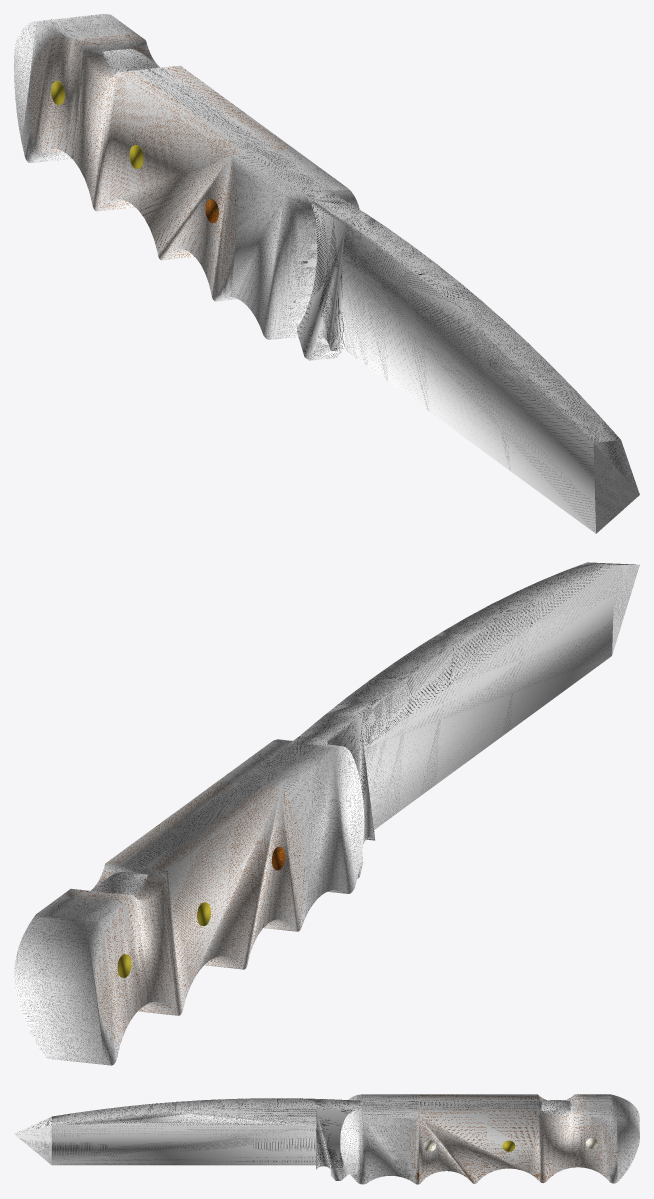
File: model_scale.obj
The picture shows the model from 3 angles, top to bottom: view 1: azimuth 30°, elevation 25°; view 2: azimuth 150°, elevation 25°; view 3: azimuth 270°, elevation 25°; orthographic projection. The views are drawn at different scales.
Visible parts, largest first — view 1: mesh1_mesh1-geometry; view 2: mesh1_mesh1-geometry; view 3: mesh1_mesh1-geometry.
Boxes of the visible parts, box(x1,y1,x2,y2) form: mesh1_mesh1-geometry: box(14, 14, 639, 533); mesh1_mesh1-geometry: box(14, 562, 639, 1065); mesh1_mesh1-geometry: box(14, 1094, 639, 1184).
Bounding box in the file's own units: 0.0158 × 0.0286 × 0.202.
6 materials, 5 textured.
